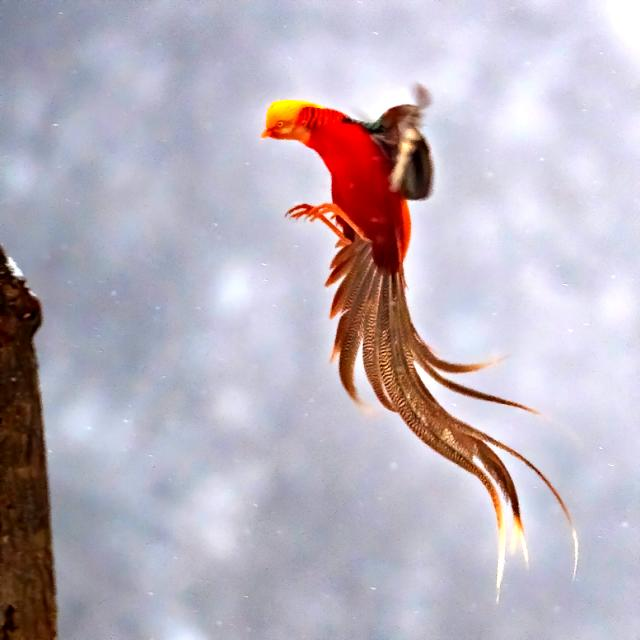Chrysolophus pictus feather: (327, 226, 568, 582)
